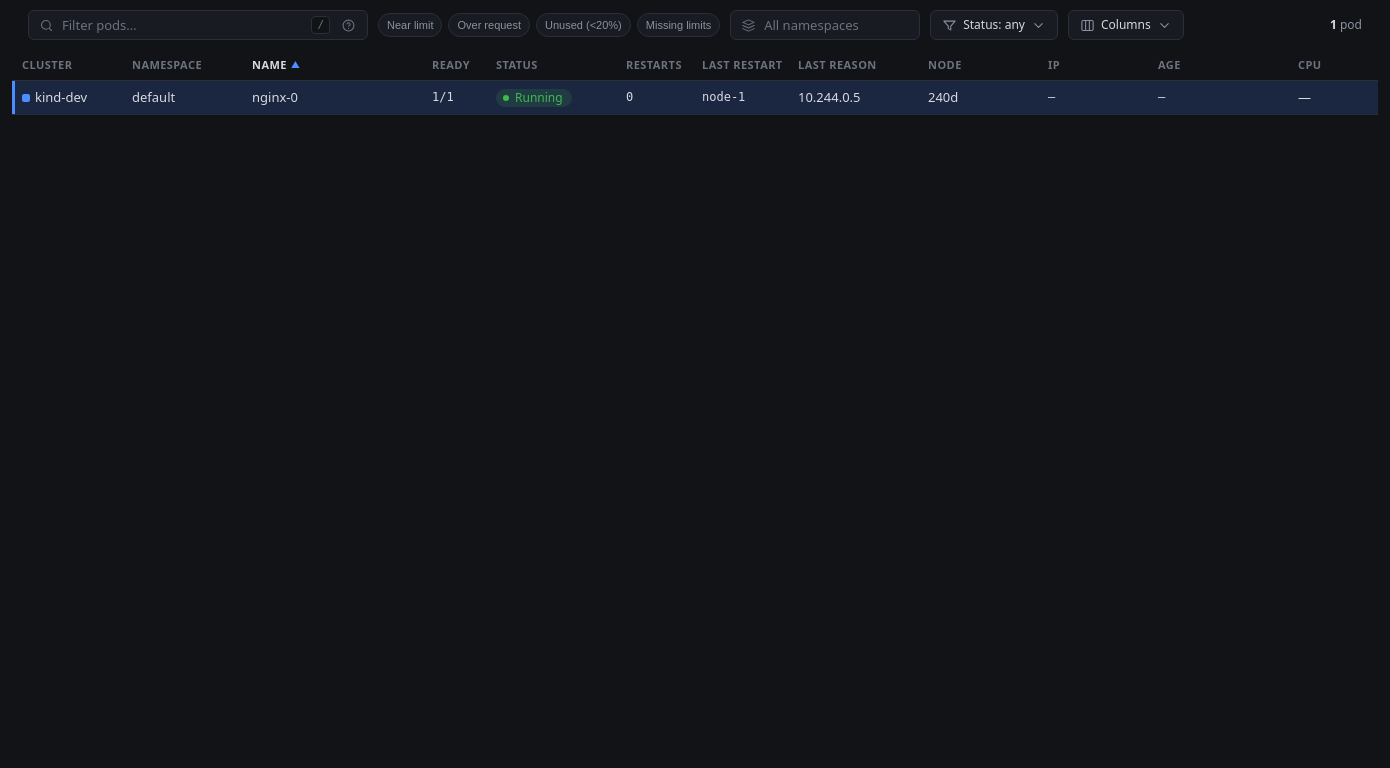
Test: Task R-04: Mount ResourceDrawer from PodTable with mockIPC › YAML tab fetches the cluster schema and shows an honest note when it is unavailable (05-04)
Double-click the text "nginx-0".
double_click(275, 97)  # box [252,88,298,106]
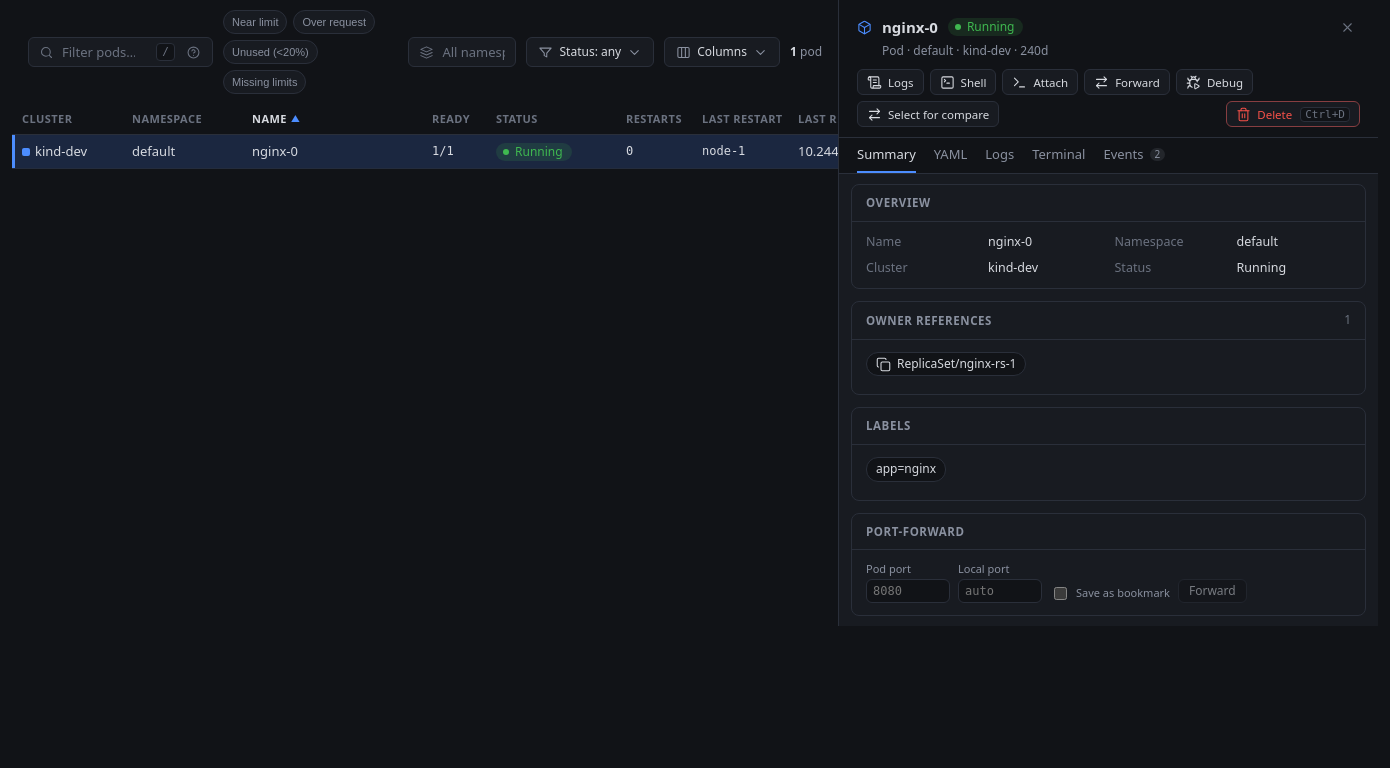
Check: the element named "Resource details" is shown, box [838,0,1378,626]
Click the tab "YAML".
click(951, 159)  # box [934,146,967,173]
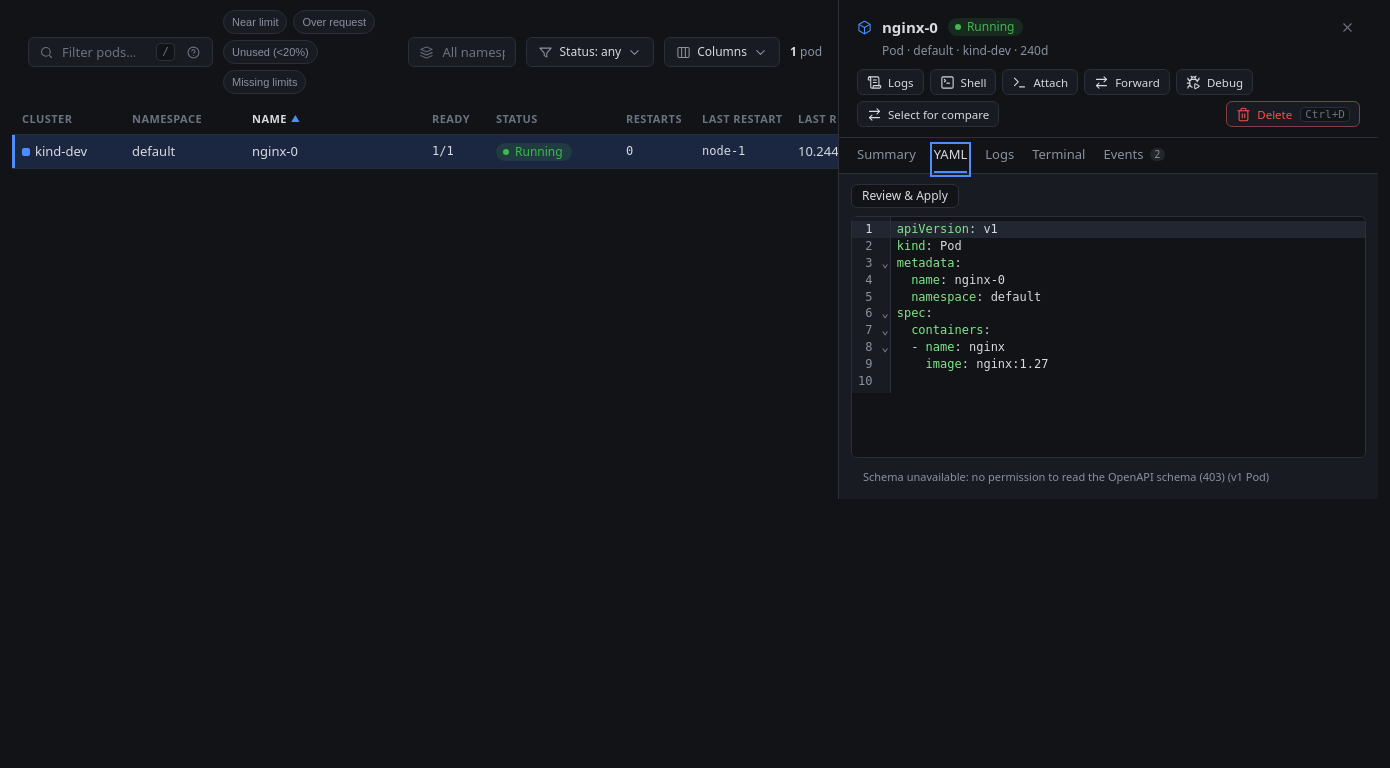
Check: the text with test id "yaml-schema-note" reads "Schema unavailable: no permission to read the OpenAPI schema (403) (v1 Pod)", box [863,469,1269,484]
